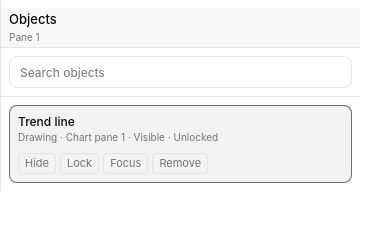
ObjectsPanel › reports an action rejected by the current model
Click the button with aria-label "Hide Trend line" at (37, 164), box [18,153,56,174]
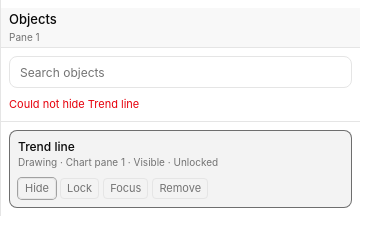
Check: the message reads "Could not hide Trend line", box [9,97,139,111]
